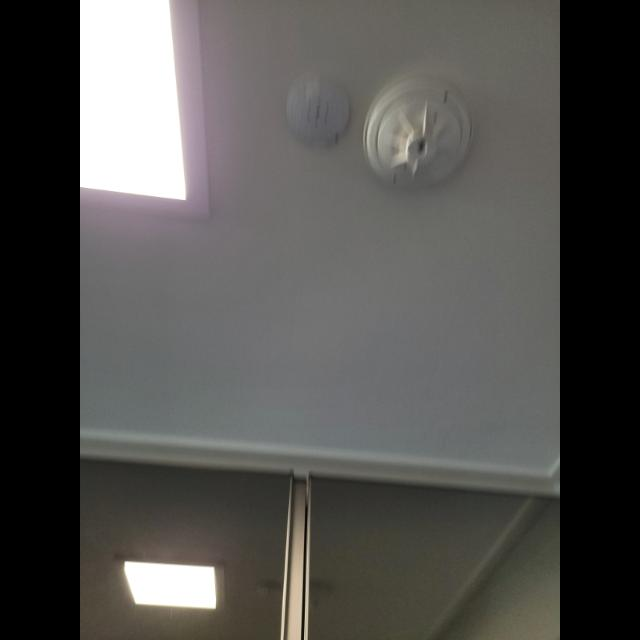Smoke-Detector: (362, 81, 470, 187)
